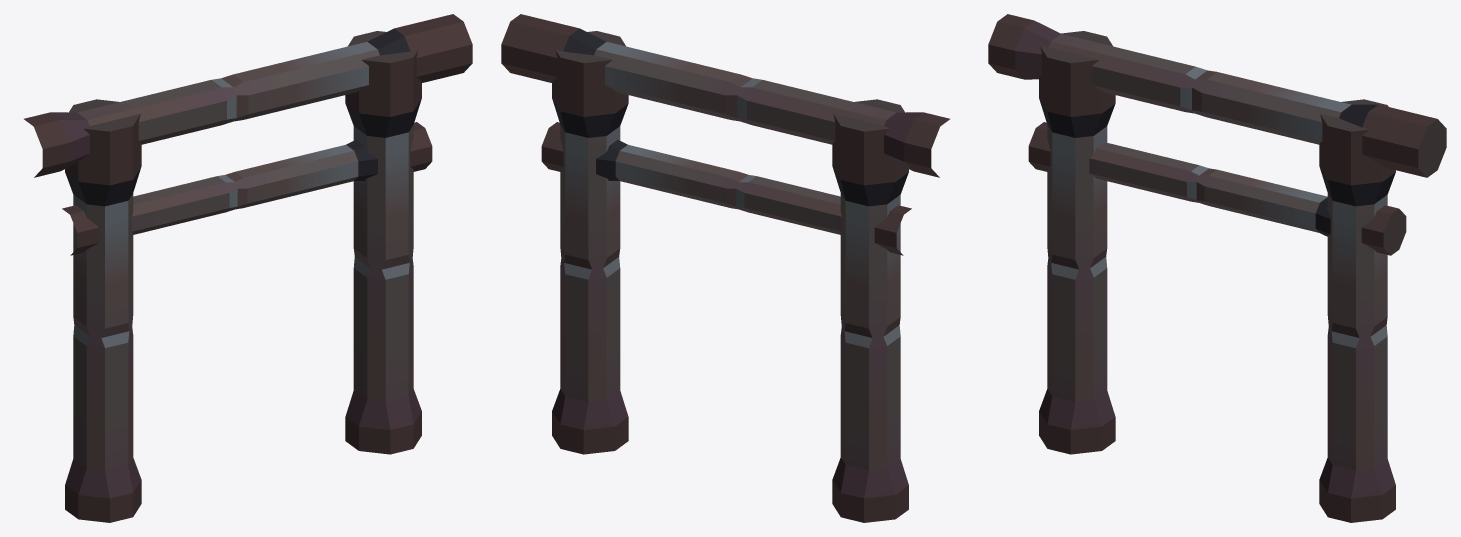
Rendered from torii.glb.
3 renders of one model, left to right at view 1: azimuth 30°, elevation 25°; view 2: azimuth 150°, elevation 25°; view 3: azimuth 330°, elevation 25°, orthographic.
Visible parts, largest first — view 1: torii-post-left, torii-post-right, torii-kasagi, torii-nuki; view 2: torii-post-left, torii-post-right, torii-kasagi, torii-nuki; view 3: torii-post-left, torii-post-right, torii-kasagi, torii-nuki.
Boxes of the visible parts, left/top/right/bottom form: torii-post-left: left=65, top=99, right=141, bottom=522; torii-post-right: left=345, top=31, right=421, bottom=454; torii-kasagi: left=24, top=14, right=472, bottom=177; torii-nuki: left=62, top=122, right=432, bottom=255; torii-post-left: left=832, top=99, right=908, bottom=522; torii-post-right: left=552, top=31, right=628, bottom=454; torii-kasagi: left=501, top=14, right=949, bottom=177; torii-nuki: left=541, top=122, right=911, bottom=255; torii-post-left: left=1039, top=31, right=1115, bottom=454; torii-post-right: left=1319, top=99, right=1395, bottom=522; torii-kasagi: left=988, top=14, right=1446, bottom=177; torii-nuki: left=1028, top=122, right=1406, bottom=255.
Size of the model in its own units: 4.6 by 4.11 by 0.675.
1 material, 1 textured.
